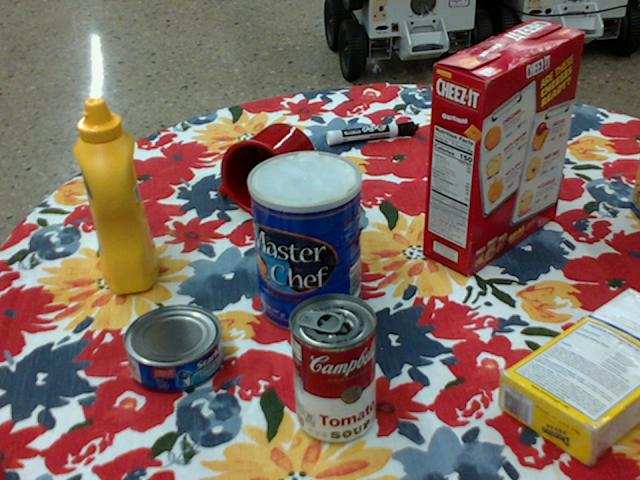cracker_box: (427, 20, 585, 276)
gelatin_box: (487, 122, 549, 174)
large_marker: (326, 120, 417, 144)
master_chef_can: (246, 149, 360, 333)
mug: (218, 122, 315, 218)
mustard_bottle: (73, 98, 159, 295)
potted_meat_can: (631, 141, 639, 220)
sugar_box: (499, 287, 639, 464)
tomato_soup_can: (287, 292, 375, 443)
tuna_fish_can: (120, 304, 220, 391)
